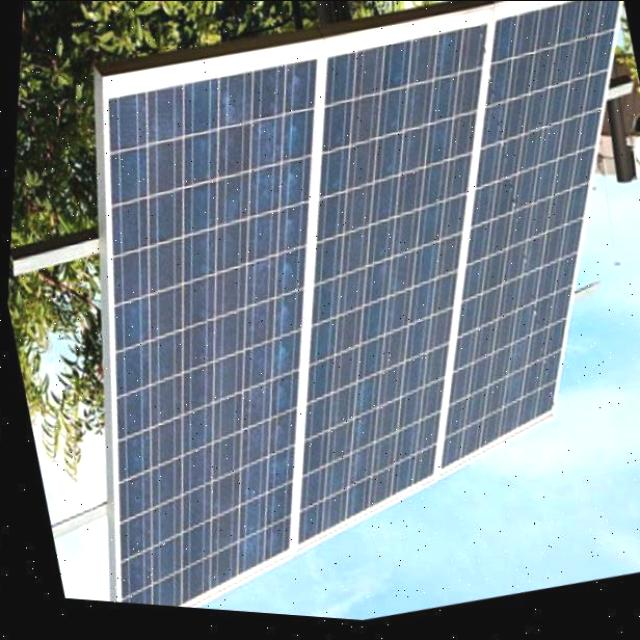Normal Solar Panel: (0, 25, 447, 627), (186, 0, 607, 570), (336, 0, 640, 489)
